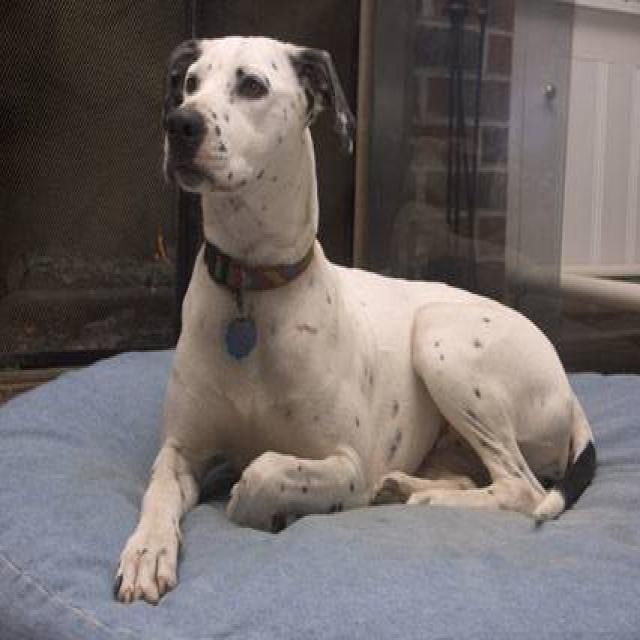dog: (111, 32, 597, 606)
